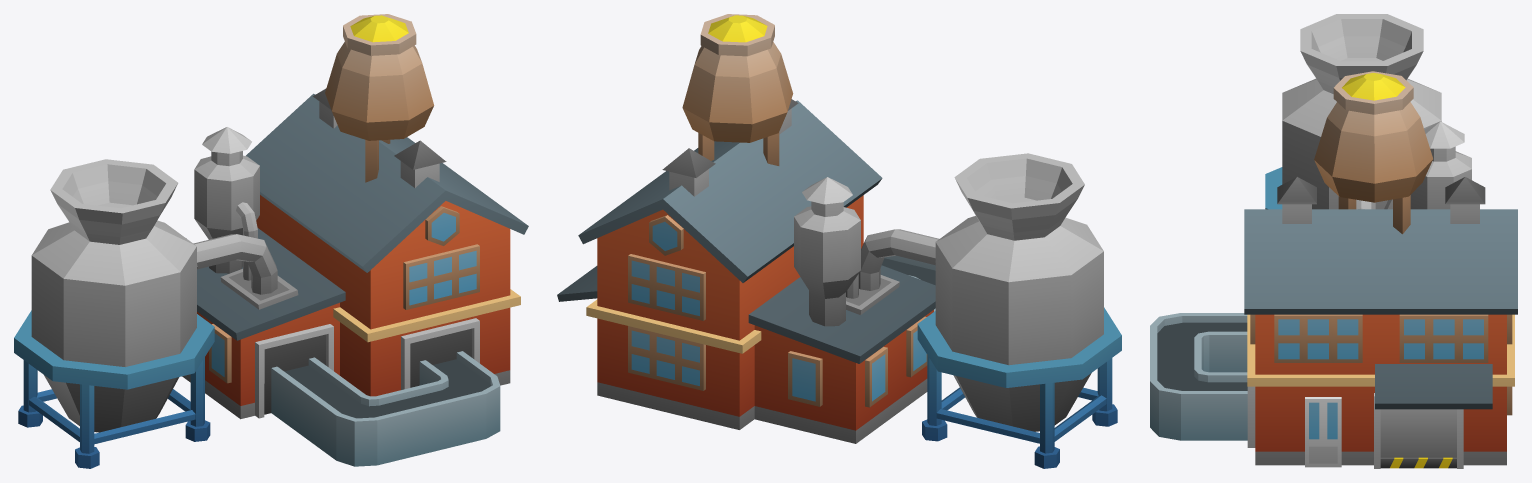
Rendered from feed factory house.fbx.
3 views of the same model, side by side, from view 1: azimuth 30°, elevation 25°; view 2: azimuth 150°, elevation 25°; view 3: azimuth 270°, elevation 25° (orthographic). The views are drawn at different scales.
Visible parts, largest first — view 1: feed_factory_house; view 2: feed_factory_house; view 3: feed_factory_house.
Boxes of the visible parts, x1=… form: feed_factory_house: x1=14, y1=14, x2=528, y2=468; feed_factory_house: x1=557, y1=14, x2=1121, y2=468; feed_factory_house: x1=1150, y1=14, x2=1517, y2=468.
Size of the model in its own units: 1556 by 1071 by 1017.
Materials: 1 (1 with a texture image).
